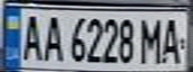2: (84, 15, 106, 64), (103, 15, 121, 64)
6: (66, 14, 87, 63)
8: (118, 15, 139, 64)
A: (157, 15, 187, 64), (39, 11, 66, 63), (18, 11, 45, 62)
M: (136, 15, 163, 65)
